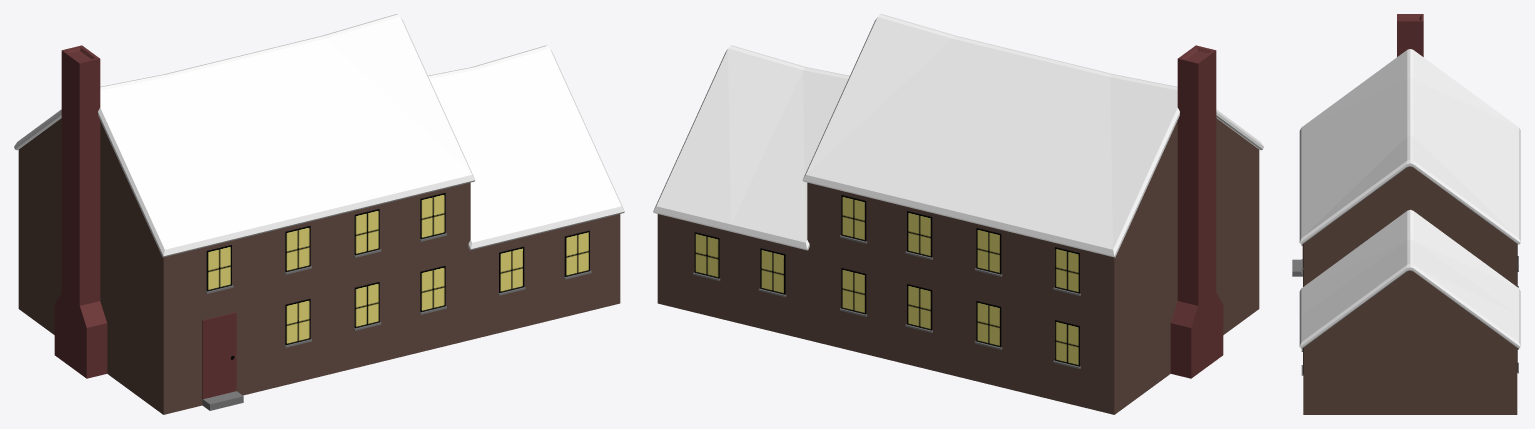
File: house_2F_03.obj
3 views of the same model, side by side, from view 1: azimuth 30°, elevation 25°; view 2: azimuth 150°, elevation 25°; view 3: azimuth 270°, elevation 25° (orthographic). The views are drawn at different scales.
Bounding box in the file's own units: 1298 × 802 × 726.
